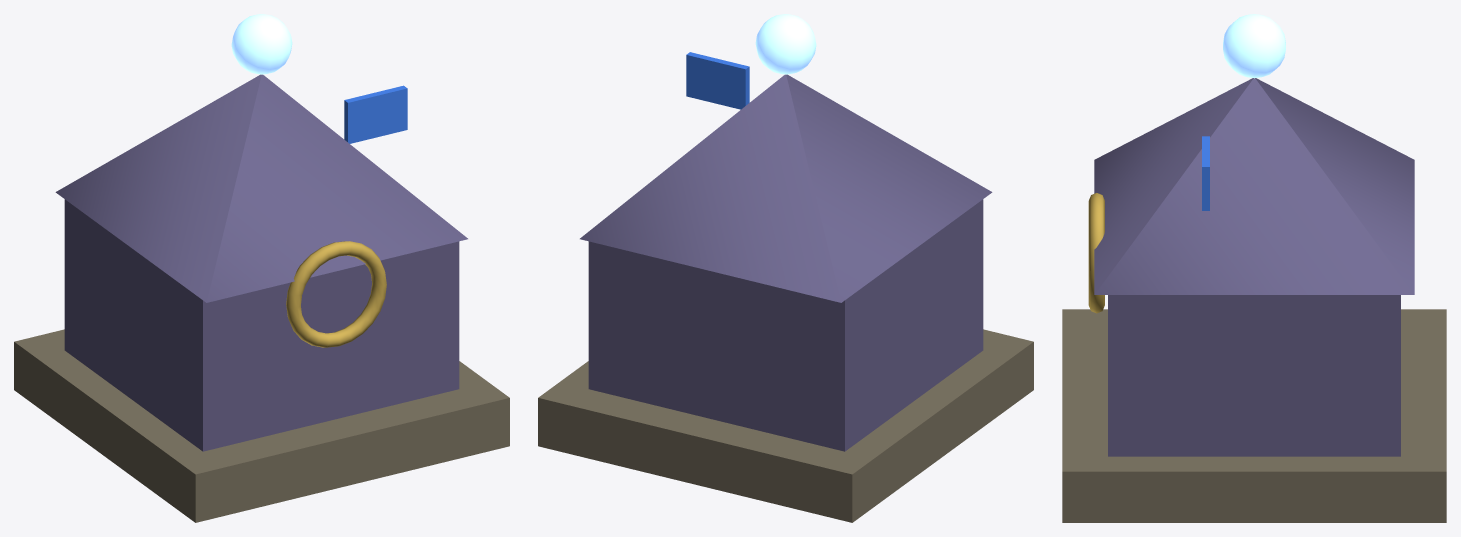
The model's file is arcane_vault.glb.
3 views of the same model, side by side, from view 1: azimuth 30°, elevation 25°; view 2: azimuth 150°, elevation 25°; view 3: azimuth 270°, elevation 25° (orthographic). The views are drawn at different scales.
Parts seen in each view (by area): view 1: vault-shop-walls, vault-purple-roof, vault-stone-base, vault-gold-shop-sign, vault-arcane-orb, vault-team-flag; view 2: vault-shop-walls, vault-purple-roof, vault-stone-base, vault-arcane-orb, vault-team-flag; view 3: vault-purple-roof, vault-shop-walls, vault-stone-base, vault-arcane-orb, vault-gold-shop-sign, vault-team-flag.
Boxes of the visible parts, x1,y1,x2,y2 form: vault-shop-walls: [64, 199, 459, 451]; vault-purple-roof: [55, 74, 467, 302]; vault-stone-base: [14, 329, 509, 522]; vault-gold-shop-sign: [286, 241, 386, 347]; vault-arcane-orb: [231, 14, 292, 74]; vault-team-flag: [344, 85, 407, 143]; vault-shop-walls: [588, 199, 983, 451]; vault-purple-roof: [580, 74, 992, 302]; vault-stone-base: [538, 329, 1033, 522]; vault-arcane-orb: [755, 14, 816, 74]; vault-team-flag: [686, 52, 749, 109]; vault-purple-roof: [1094, 78, 1414, 294]; vault-shop-walls: [1108, 295, 1400, 456]; vault-stone-base: [1062, 309, 1446, 522]; vault-arcane-orb: [1223, 14, 1285, 78]; vault-gold-shop-sign: [1088, 193, 1104, 313]; vault-team-flag: [1202, 136, 1209, 210].
Bounding box in the file's own units: 1.9 × 2.32 × 1.9.
